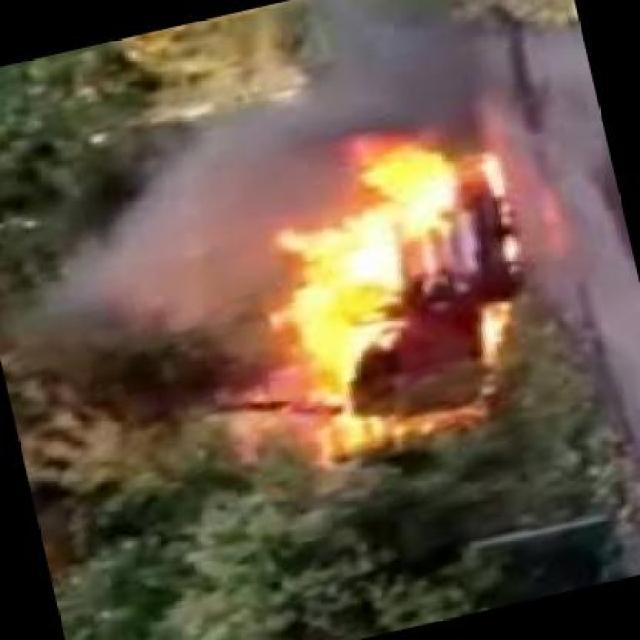Fire: (258, 144, 542, 442)
Smoke: (39, 112, 273, 342), (272, 5, 608, 136), (498, 132, 632, 403), (235, 114, 351, 208), (32, 104, 120, 107)
